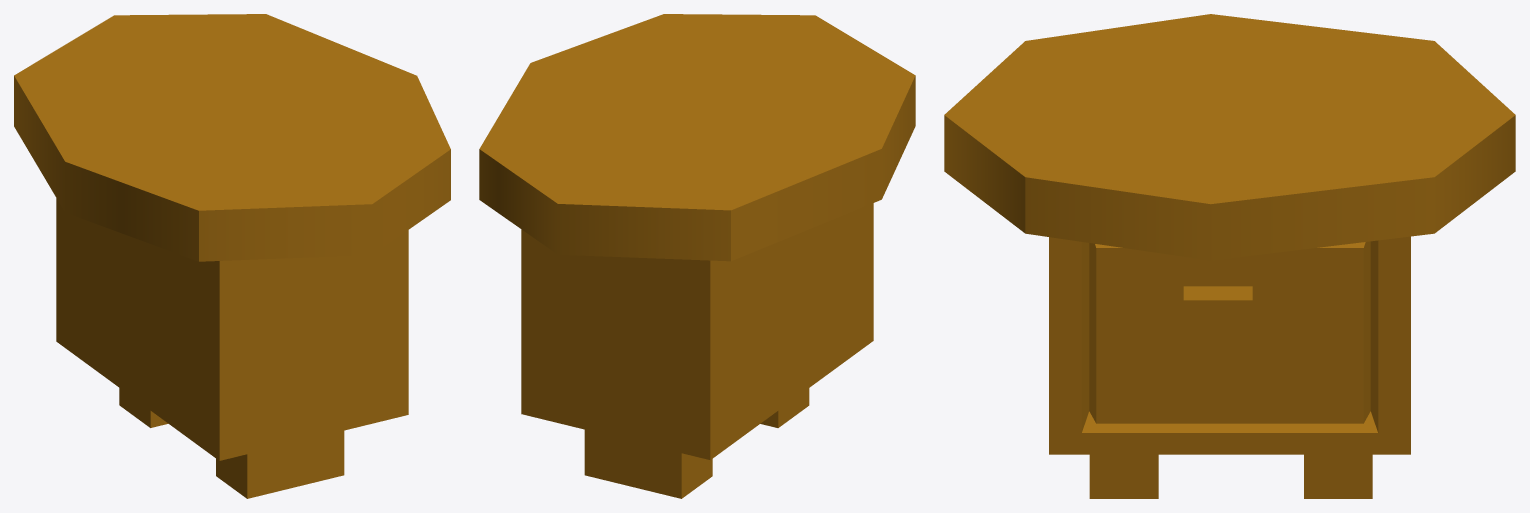
The model's file is nightStand_mdl.fbx.
3 views of the same model, side by side, from view 1: azimuth 30°, elevation 25°; view 2: azimuth 150°, elevation 25°; view 3: azimuth 270°, elevation 25° (orthographic). The views are drawn at different scales.
Parts seen in each view (by area): view 1: pCube46; view 2: pCube46; view 3: pCube46.
Part boxes in pixels (bbox=[...]): pCube46: bbox=[14, 14, 450, 498]; pCube46: bbox=[479, 14, 915, 498]; pCube46: bbox=[944, 14, 1515, 498].
Size of the model in its own units: 153 by 136 by 194.
